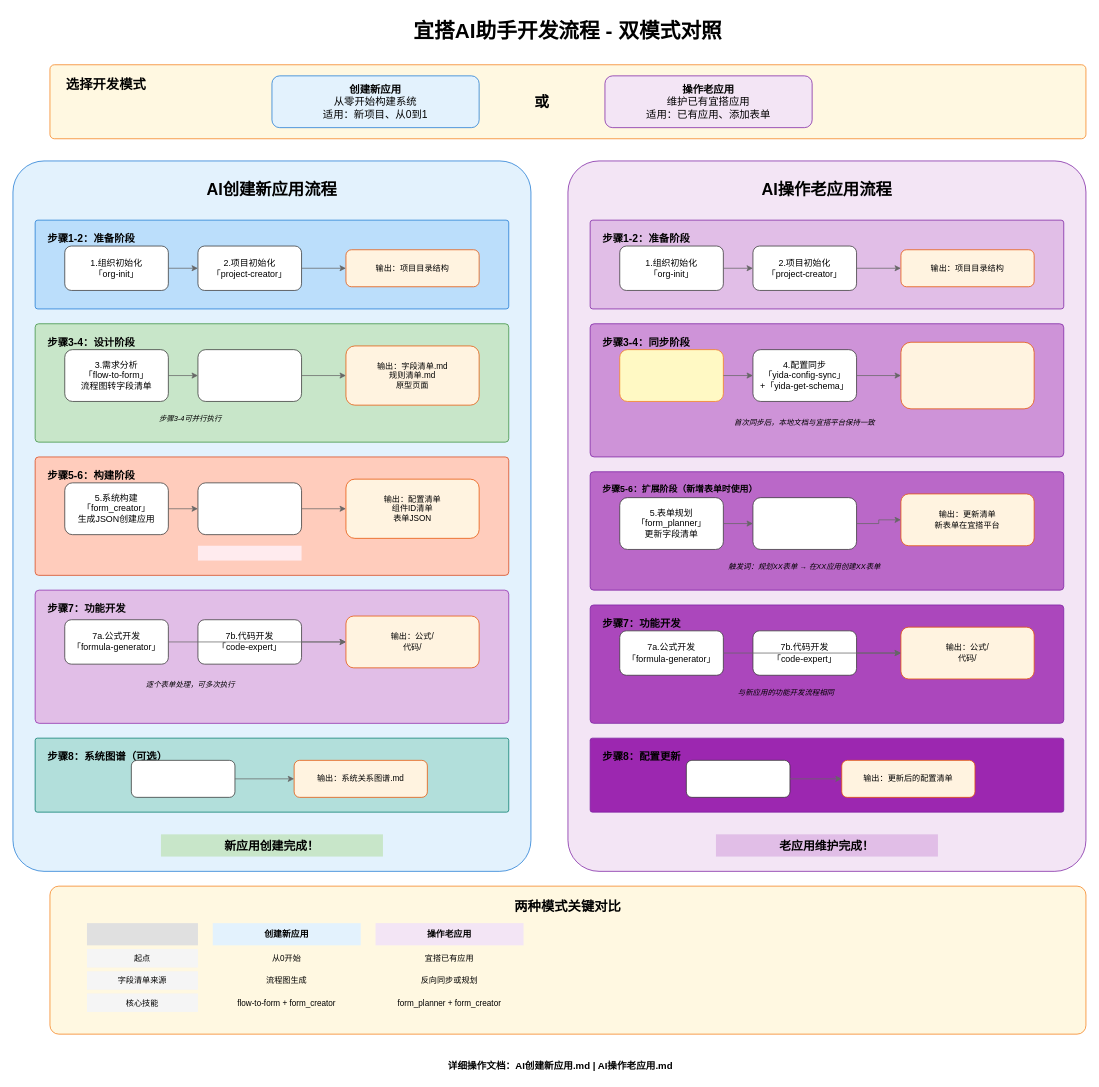
Some shapes in this 1099 by 1087 pixel diagram are drawn without their labels. Here are the shapes that lost their labels. From the top down, the box of each, then its label:
(197, 349, 302, 401): 4.原型设计 「form-to-prototype」 生成HTML原型
(619, 349, 723, 401): 3.已有应用准备 手动操作 复制部署信息
(900, 342, 1034, 409): 输出：配置清单 字段清单 表单清单 组件ID清单
(197, 482, 302, 535): 6.配置同步 「yida-config-sync」 同步组件ID
(752, 497, 857, 549): 6.表单创建 「form_creator」 创建单个表单
(198, 545, 301, 560): 等待3-5分钟后执行
(131, 760, 235, 797): 8.系统图谱 「yida-system-map」
(686, 760, 790, 797): 8.配置更新 「yida-config-sync」
(87, 923, 198, 945): 对比项
